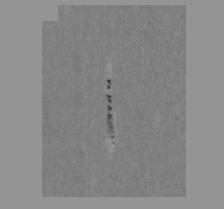oxl: (35, 10, 189, 199)
